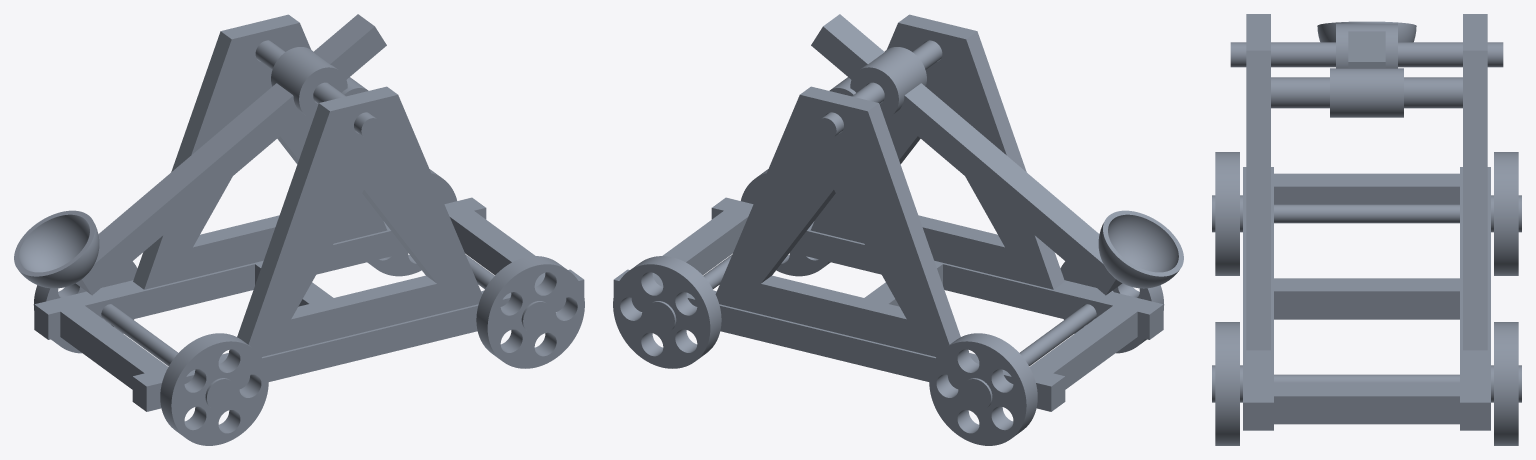
File: step-6.glb
3 views of the same model, side by side, from view 1: azimuth 30°, elevation 25°; view 2: azimuth 150°, elevation 25°; view 3: azimuth 270°, elevation 25° (orthographic). The views are drawn at different scales.
Visible parts, largest first — view 1: face_34d923c5cc0273aa6e75, face_c6c4061f282d0e0150db, face_e8b85afa708fb4fee940, face_d169b7d3875214d54722, face_6d2e70d1d23f567eaaaa, face_5832bbb8003691354885, face_a82bb260a0c9b2dad736, face_13b3d2e129ec6e483a8b, face_2eaea902cd9694468f8e, face_fb8887bba764df91bad6, face_e94c620bed071c971e52, face_3c0834110e3bc344f8e5 (+21 smaller); view 2: face_ef5056151f815182bda0, face_7b157cf39619654b872c, face_e8b85afa708fb4fee940, face_4eec5b49c1f6f86e5da5, face_add05f6f2877eb243492, face_eab93a4bb20a507bf2ff, face_4f0df47c5c225afdd2d6, face_13b3d2e129ec6e483a8b, face_50ad7d6bdd65877e40da, face_3c0834110e3bc344f8e5, face_e94c620bed071c971e52, face_fb8887bba764df91bad6 (+21 smaller); view 3: face_e8b85afa708fb4fee940, face_5c6a311c84a0fef03e59, face_7a4d995620524e4ab61b, face_eaa270c082d40c3f3501, face_f7f6948fa4251880c2cf, face_be33e1bf23d48bf20ae8, face_8f30ea22fc97bdc69326, face_202713108f87a2026aac, face_14de0b3180eca4220d2a, face_e96546e02ac1d82d9e1a, face_55f5af73b43f5918e859, face_1cb95937486aa02ddd41 (+11 smaller).
Boxes of the visible parts, left/top/right/bottom form: face_34d923c5cc0273aa6e75: left=248, top=95, right=482, bottom=356; face_c6c4061f282d0e0150db: left=144, top=23, right=387, bottom=289; face_e8b85afa708fb4fee940: left=35, top=197, right=583, bottom=386; face_d169b7d3875214d54722: left=82, top=96, right=304, bottom=295; face_6d2e70d1d23f567eaaaa: left=146, top=280, right=584, bottom=411; face_5832bbb8003691354885: left=171, top=341, right=268, bottom=445; face_a82bb260a0c9b2dad736: left=487, top=264, right=584, bottom=368; face_13b3d2e129ec6e483a8b: left=94, top=83, right=292, bottom=263; face_2eaea902cd9694468f8e: left=85, top=264, right=254, bottom=324; face_fb8887bba764df91bad6: left=237, top=103, right=329, bottom=344; face_e94c620bed071c971e52: left=19, top=214, right=89, bottom=272; face_3c0834110e3bc344f8e5: left=133, top=31, right=231, bottom=289; face_ef5056151f815182bda0: left=715, top=95, right=949, bottom=356; face_7b157cf39619654b872c: left=810, top=23, right=1053, bottom=289; face_e8b85afa708fb4fee940: left=614, top=197, right=1162, bottom=386; face_4eec5b49c1f6f86e5da5: left=893, top=96, right=1115, bottom=295; face_add05f6f2877eb243492: left=613, top=280, right=1051, bottom=411; face_eab93a4bb20a507bf2ff: left=929, top=341, right=1026, bottom=445; face_4f0df47c5c225afdd2d6: left=613, top=264, right=710, bottom=368; face_13b3d2e129ec6e483a8b: left=905, top=83, right=1103, bottom=263; face_50ad7d6bdd65877e40da: left=943, top=264, right=1112, bottom=324; face_3c0834110e3bc344f8e5: left=868, top=103, right=960, bottom=344; face_e94c620bed071c971e52: left=1108, top=214, right=1178, bottom=272; face_fb8887bba764df91bad6: left=966, top=31, right=1064, bottom=289; face_e8b85afa708fb4fee940: left=1243, top=167, right=1490, bottom=402; face_5c6a311c84a0fef03e59: left=1246, top=50, right=1270, bottom=350; face_7a4d995620524e4ab61b: left=1463, top=50, right=1487, bottom=350; face_eaa270c082d40c3f3501: left=1274, top=396, right=1459, bottom=424; face_f7f6948fa4251880c2cf: left=1274, top=291, right=1459, bottom=319; face_be33e1bf23d48bf20ae8: left=1230, top=42, right=1503, bottom=67; face_8f30ea22fc97bdc69326: left=1274, top=204, right=1459, bottom=223; face_202713108f87a2026aac: left=1330, top=68, right=1403, bottom=117; face_14de0b3180eca4220d2a: left=1274, top=186, right=1459, bottom=204; face_e96546e02ac1d82d9e1a: left=1494, top=322, right=1518, bottom=445; face_55f5af73b43f5918e859: left=1215, top=322, right=1239, bottom=445; face_1cb95937486aa02ddd41: left=1494, top=152, right=1518, bottom=275.
Bounding box in the file's own units: 0.2086 × 0.1263 × 0.1.
